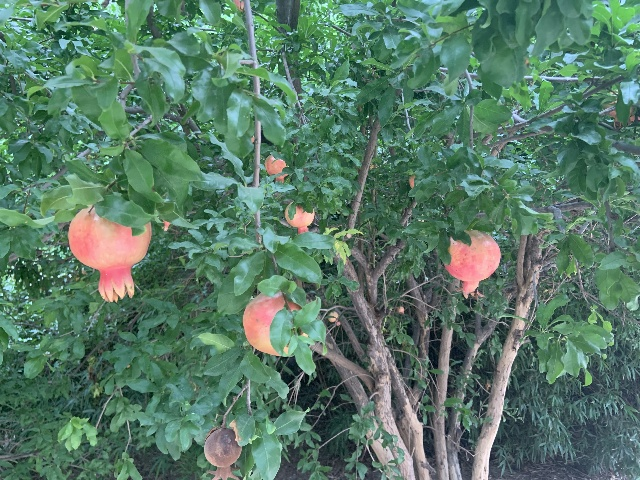ripe: (68, 204, 151, 302), (242, 290, 308, 355), (443, 229, 501, 299), (204, 422, 242, 479), (284, 201, 314, 234), (264, 151, 289, 183), (328, 311, 340, 326), (398, 306, 404, 313)
